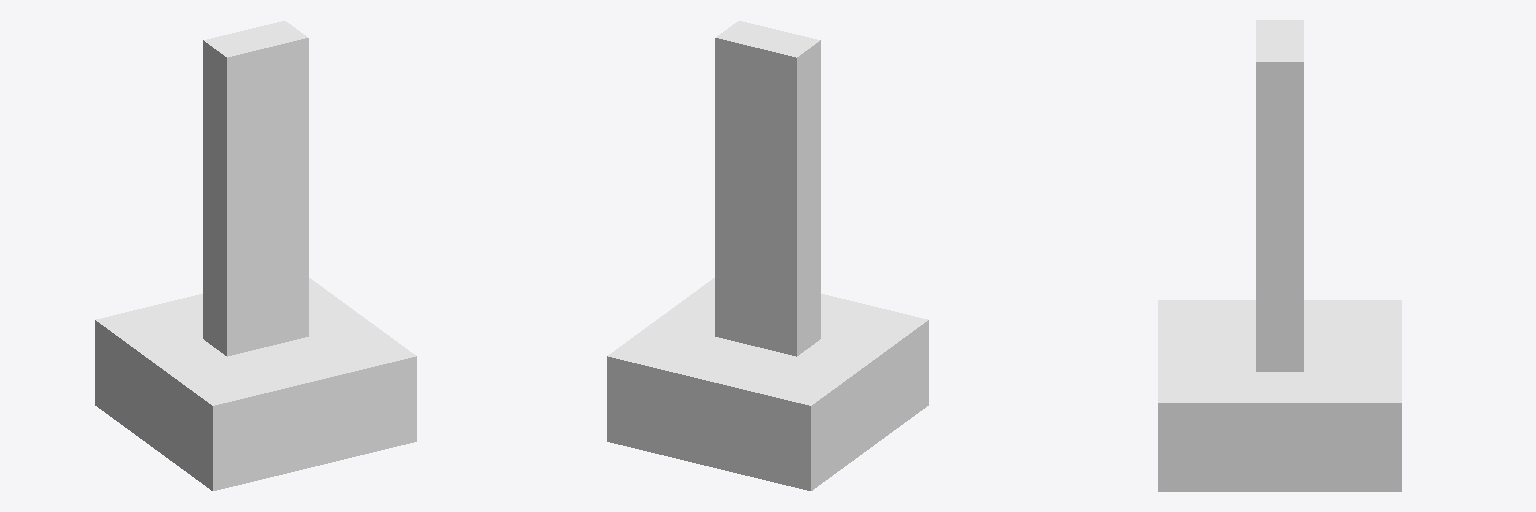
The robot description file, URDF, robot "reem":
<?xml version="1.0" ?>
<!-- =================================================================================== -->
<!-- |    This document was autogenerated by xacro from [local-path]/pal-isolated/stacks/reem_common/reem_description/robots/reem_head.urdf.xacro | -->
<!-- |    EDITING THIS FILE BY HAND IS NOT RECOMMENDED                                 | -->
<!-- =================================================================================== -->
<!--

  Copyright (c) 2012, PAL Robotics, S.L.
  All rights reserved.

  This work is licensed under the Creative Commons Attribution-NonCommercial-NoDerivs 3.0 Unported License.
  To view a copy of this license, visit http://creativecommons.org/licenses/by-nc-nd/3.0/ or send a letter to
  Creative Commons, 444 Castro Street, Suite 900, Mountain View, California, 94041, USA.
-->
<robot name="reem" xmlns:controller="http://playerstage.sourceforge.net/gazebo/xmlschema/#controller" xmlns:interface="http://playerstage.sourceforge.net/gazebo/xmlschema/#interface" xmlns:sensor="http://playerstage.sourceforge.net/gazebo/xmlschema/#sensor" xmlns:xacro="http://ros.org/wiki/xacro">
  <!-- The following included files set up definitions of parts of the robot body -->
  <!-- Head -->
  <!-- Generic simulator_gazebo plugins -->
  <gazebo>
    <plugin filename="libros_control_gazebo_plugin.so" name="ros_control">
      <ns/>
      <robotSimType>reem_hardware_gazebo/ReemHardwareGazebo</robotSimType>
      <controlPeriod>0.001</controlPeriod>
    </plugin>
    <plugin filename="libgazebo_ros_p3d.so" name="gazebo_ros_p3d">
      <bodyName>base_link</bodyName>
      <topicName>ground_truth_odom</topicName>
      <alwaysOn>true</alwaysOn>
      <updateRate>100.0</updateRate>
    </plugin>
  </gazebo>
  <!-- Materials for visualization -->
  <material name="Blue">
    <color rgba="0.0 0.0 0.8 1.0"/>
  </material>
  <material name="Green">
    <color rgba="0.0 0.8 0.0 1.0"/>
  </material>
  <material name="Grey">
    <color rgba="0.7 0.7 0.7 1.0"/>
  </material>
  <material name="LightGrey">
    <color rgba="0.9 0.9 0.9 1.0"/>
  </material>
  <material name="DarkGrey">
    <color rgba="0.2 0.2 0.2 1.0"/>
  </material>
  <material name="Red">
    <color rgba="0.8 0.0 0.0 1.0"/>
  </material>
  <material name="White">
    <color rgba="1.0 1.0 1.0 1.0"/>
  </material>
  <!-- Fixed structure -->
  <joint name="base_footprint_joint" type="fixed">
    <origin rpy="-1.57079632679 0 0" xyz="0 0 0.55"/>
    <child link="base_link"/>
    <parent link="base_footprint"/>
  </joint>
  <link name="base_footprint">
    <inertial>
      <mass value="50.0"/>
      <origin xyz="0 0 0.1"/>
      <inertia ixx="1.2083" ixy="0.0" ixz="0.0" iyy="1.2083" iyz="0.0" izz="2.0833"/>
    </inertial>
    <visual>
      <origin rpy="0 0 0" xyz="0 0 0.1"/>
      <geometry>
        <box size="0.5 0.5 0.2"/>
      </geometry>
      <material name="White"/>
    </visual>
    <collision>
      <origin rpy="0 0 0" xyz="0 0 0.1"/>
      <geometry>
        <box size="0.5 0.5 0.2"/>
      </geometry>
    </collision>
  </link>
  <link name="base_link">
    <inertial>
      <mass value="20.0"/>
      <origin xyz="0 0 0"/>
      <inertia ixx="0.8333" ixy="0.0" ixz="0.0" iyy="0.08333" iyz="0.0" izz="0.88333"/>
    </inertial>
    <visual>
      <origin rpy="0 0 0" xyz="0 0 0"/>
      <geometry>
        <box size="0.2 0.7 0.1"/>
      </geometry>
      <material name="White"/>
    </visual>
    <collision>
      <origin rpy="0 0 0" xyz="0 0 0"/>
      <geometry>
        <box size="0.2 0.7 0.1"/>
      </geometry>
    </collision>
  </link>
  <!-- Head -->
  <link name="head_1_link">
    <inertial>
      <origin rpy="0 0 0" xyz="0.01741 0.00466 -0.00434"/>
      <mass value="0.98547"/>
      <!-- NOTE: Assuming cylinder with r=0.06, h=0.08 -->
      <!--         <inertia ixx="0.0014125"  ixy="0"  ixz="0" iyy="0.0014125" iyz="0" izz="0.0017738" /> -->
      <inertia ixx="0" ixy="0" ixz="0" iyy="0" iyz="0" izz="0"/>
    </inertial>
    <visual>
      <origin rpy="0 0 0" xyz="0 0 0"/>
      <geometry>
        <mesh filename="package://reem_description/meshes/head/head_1.dae"/>
      </geometry>
      <material name="DarkGrey"/>
    </visual>
    <collision>
      <origin rpy="0 0 0" xyz="0 0 0"/>
      <geometry>
        <mesh filename="package://reem_description/meshes/head/head_1_collision.stl"/>
      </geometry>
    </collision>
  </link>
  <joint name="head_1_joint" type="revolute">
    <parent link="base_link"/>
    <child link="head_1_link"/>
    <origin rpy="1.57079632679 0 0" xyz="-0.024 -0.412 0"/>
    <axis xyz="0 0 1"/>
    <limit effort="3.4" lower="-1.308996939" upper="1.308996939" velocity="3.0"/>
    <dynamics damping="0.5" friction="1.0"/>
    <safety_controller k_position="20" k_velocity="20" soft_lower_limit="-1.288996939" soft_upper_limit="1.288996939"/>
  </joint>
  <gazebo reference="head_1_link">
    <mu1>0.9</mu1>
    <mu2>0.9</mu2>
  </gazebo>
  <gazebo reference="head_1_joint">
    <cfmDamping>1</cfmDamping>
  </gazebo>
  <transmission name="head_1_trans">
    <type>transmission_interface/SimpleTransmission</type>
    <actuator name="head_1_motor">
      <mechanicalReduction>1</mechanicalReduction>
    </actuator>
    <joint name="head_1_joint">
      <hardwareInterface>hardware_interface/PositionJointInterface</hardwareInterface>
    </joint>
  </transmission>
  <link name="head_2_link">
    <inertial>
      <origin rpy="0 0 0" xyz="-0.04431 -0.13008 0.00011"/>
      <mass value="1.20862"/>
      <!-- NOTE: Assuming box with d=0.28433, w=0.20302, h=0.26741 -->
      <!--         <inertia ixx="0.011353"  ixy="0"  ixz="0" iyy="0.012294" iyz="0" izz="0.015345" /> -->
      <!--NOTE: Low (0.1 or lower) diagonal inertia values make Gazebo 1.0.2 simulation unstable when head sensors are added.-->
      <inertia ixx="0.25" ixy="0" ixz="0" iyy="0.25" iyz="0" izz="0.25"/>
    </inertial>
    <visual>
      <origin rpy="0 0 0" xyz="0 0 0"/>
      <geometry>
        <mesh filename="package://reem_description/meshes/head/head_2.dae"/>
      </geometry>
      <material name="LightGrey"/>
    </visual>
    <collision>
      <origin rpy="0 0 0" xyz="0 0 0"/>
      <geometry>
        <mesh filename="package://reem_description/meshes/head/head_2_collision.stl"/>
      </geometry>
    </collision>
  </link>
  <joint name="head_2_joint" type="revolute">
    <parent link="head_1_link"/>
    <child link="head_2_link"/>
    <origin rpy="-1.57079632679 0 0" xyz="0.0445 0 0"/>
    <axis xyz="0 0 1"/>
    <limit effort="3.26" lower="-0.261799387799" upper="0.785398163397" velocity="3.0"/>
    <dynamics damping="0.5" friction="1.0"/>
    <safety_controller k_position="20" k_velocity="20" soft_lower_limit="-0.241799387799" soft_upper_limit="0.349065850399"/>
  </joint>
  <gazebo reference="head_2_link">
    <mu1>0.9</mu1>
    <mu2>0.9</mu2>
  </gazebo>
  <gazebo reference="head_2_joint">
    <cfmDamping>1</cfmDamping>
  </gazebo>
  <link name="head_sonar_16_link">
    <inertial>
      <mass value="0.001"/>
      <origin rpy="0 0 0" xyz="0 0 0"/>
      <inertia ixx="0.0001" ixy="0" ixz="0" iyy="0.000001" iyz="0" izz="0.0001"/>
    </inertial>
  </link>
  <joint name="head_sonar_16_joint" type="fixed">
    <origin rpy="1.57 0.0 0.0" xyz="0.086 -0.195 0.0"/>
    <axis xyz="0 0 1"/>
    <parent link="head_2_link"/>
    <child link="head_sonar_16_link"/>
  </joint>
  <gazebo reference="head_sonar_16_link">
    <sensor name="head_sonar_16" type="ray">
      <pose>0 0 0 0 0 0</pose>
      <update_rate>5</update_rate>
      <visualize>false</visualize>
      <ray>
        <scan>
          <horizontal>
            <samples>5</samples>
            <resolution>1</resolution>
            <min_angle>-0.17455</min_angle>
            <max_angle>0.17455</max_angle>
          </horizontal>
          <vertical>
            <samples>5</samples>
            <resolution>1</resolution>
            <min_angle>-0.17455</min_angle>
            <max_angle>0.17455</max_angle>
          </vertical>
        </scan>
        <range>
          <min>0.0</min>
          <max>0.6</max>
          <resolution>0.01</resolution>
        </range>
      </ray>
      <plugin filename="libgazebo_ros_range.so" name="gazebo_ros_range">
        <gaussianNoise>0.005</gaussianNoise>
        <alwaysOn>true</alwaysOn>
        <updateRate>5</updateRate>
        <topicName>sonar_torso</topicName>
        <frameName>head_sonar_16_link</frameName>
        <minRange>0.0</minRange>
        <maxRange>0.6</maxRange>
        <fov>0.3491</fov>
        <radiation>ultrasound</radiation>
      </plugin>
    </sensor>
  </gazebo>
  <transmission name="head_2_trans">
    <type>transmission_interface/SimpleTransmission</type>
    <actuator name="head_2_motor">
      <mechanicalReduction>1</mechanicalReduction>
    </actuator>
    <joint name="head_2_joint">
      <hardwareInterface>hardware_interface/PositionJointInterface</hardwareInterface>
    </joint>
  </transmission>
</robot>

--- Facts derived from the render (not from the file) ---
The picture shows the robot from 3 angles, left to right: view 1: azimuth 30°, elevation 25°; view 2: azimuth 150°, elevation 25°; view 3: azimuth 270°, elevation 25°; orthographic projection.
Model reem with 5 links and 4 joints (2 revolute, 2 fixed), rooted at base_footprint, posed all joints at 0.
Visible links, largest first — view 1: base_footprint, base_link; view 2: base_footprint, base_link; view 3: base_footprint, base_link.
Link boxes in pixels (<box>): base_footprint: <box>95,278,416,490</box>; base_link: <box>203,21,308,356</box>; base_footprint: <box>607,278,928,490</box>; base_link: <box>715,21,820,356</box>; base_footprint: <box>1158,300,1401,491</box>; base_link: <box>1256,20,1303,371</box>.
Size in the robot's own frame: 0.5 by 0.5 by 0.9 metres.
Meshes: 2 distinct files referenced, 0 mesh visuals loaded (none loaded); not drawn: 2 (reference not matched to a file when rendering).
